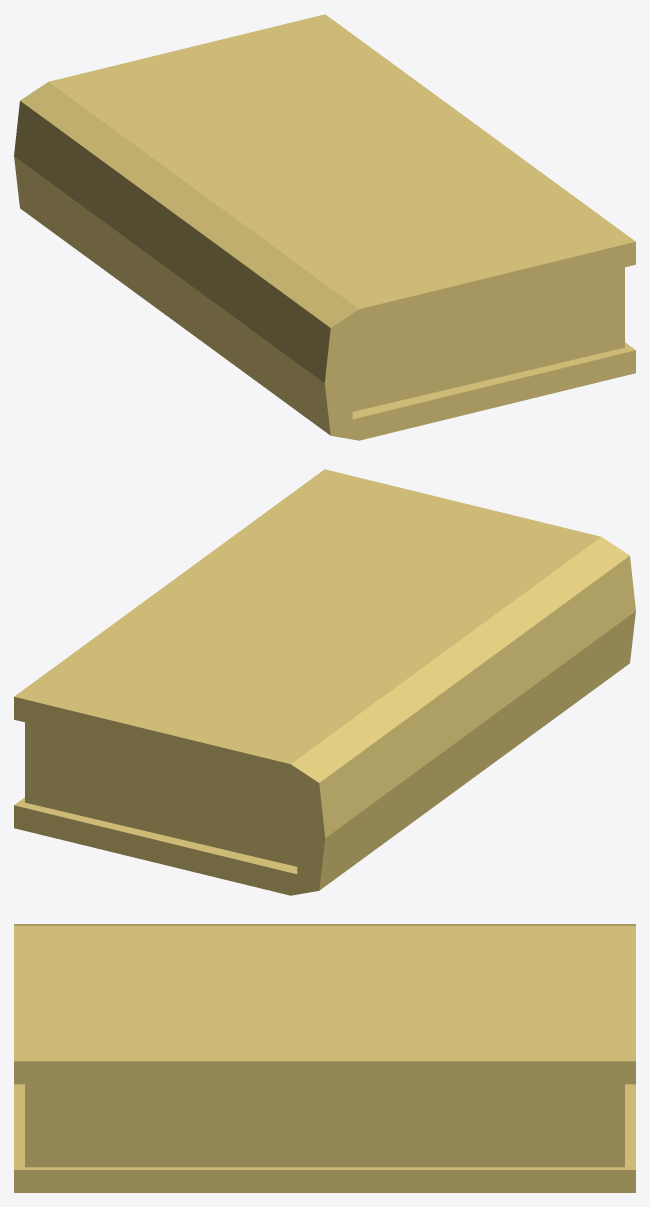
File: Book.001.fbx
The picture shows the model from 3 angles, top to bottom: view 1: azimuth 30°, elevation 25°; view 2: azimuth 150°, elevation 25°; view 3: azimuth 270°, elevation 25°; orthographic projection.
Parts seen in each view (by area): view 1: Book.001; view 2: Book.001; view 3: Book.001.
Part boxes in pixels (<box>): Book.001: <box>14,14,635,440</box>; Book.001: <box>14,469,635,895</box>; Book.001: <box>14,924,635,1192</box>.
Bounding box in the file's own units: 23.95 × 9.67 × 41.42.
